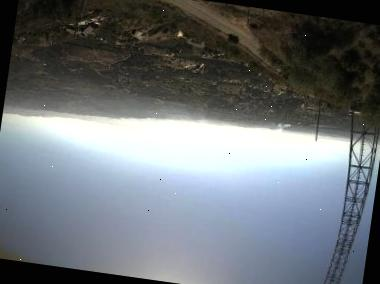smoke: (266, 121, 293, 142)
